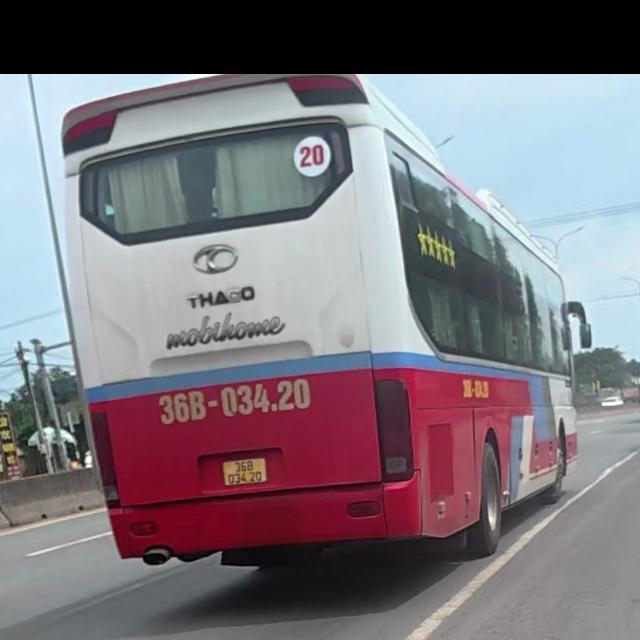license-plate: (222, 457, 267, 486)
